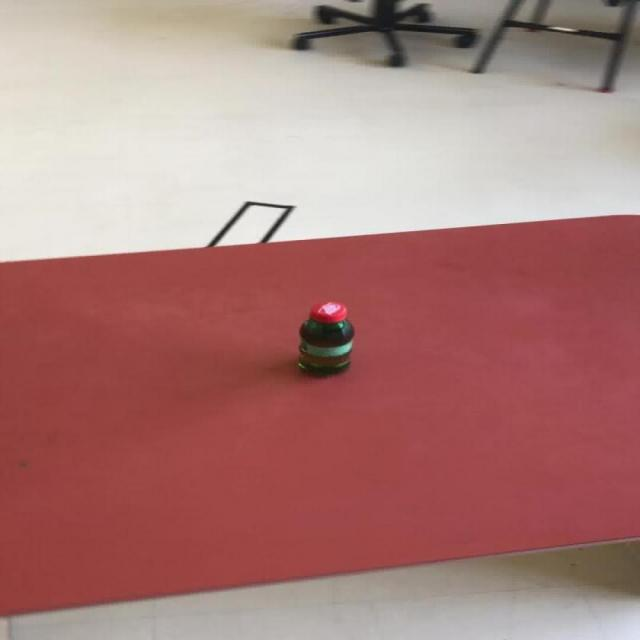Guarana: (294, 301, 354, 374)
